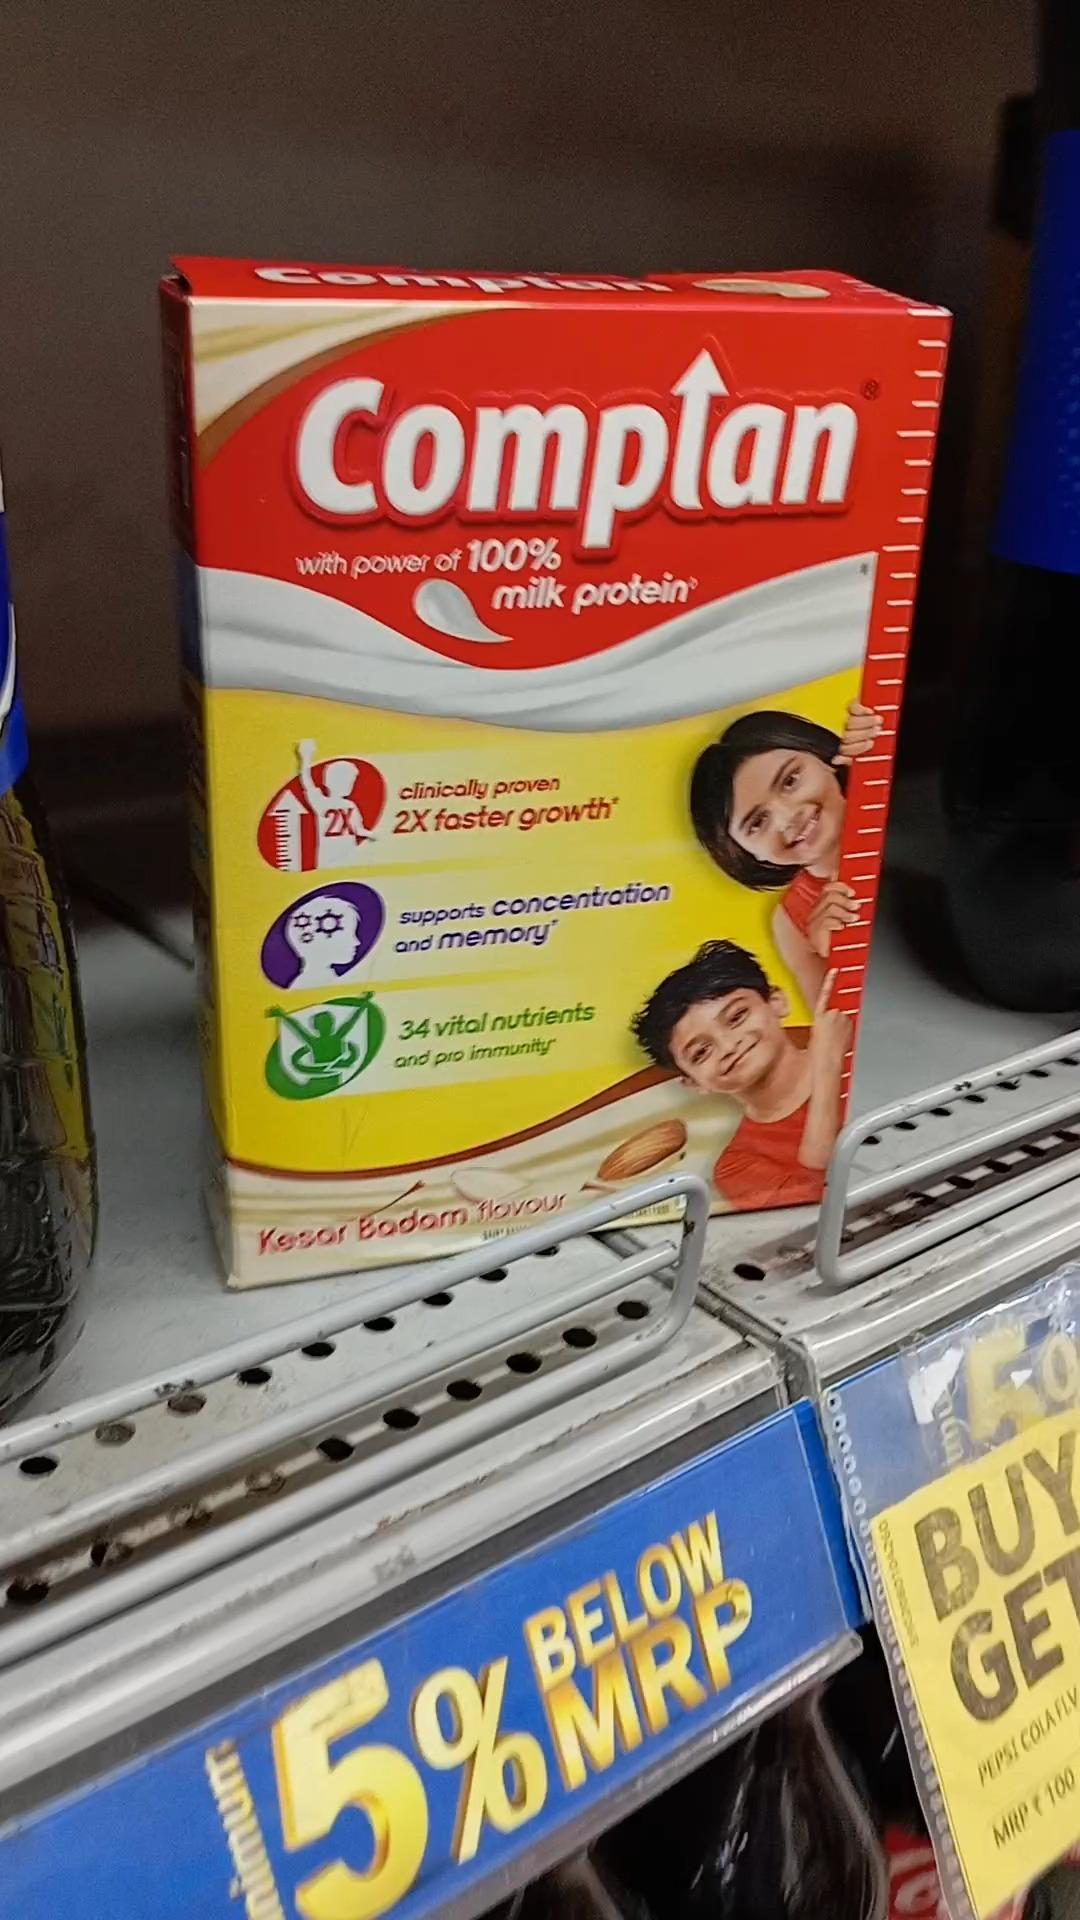COMPLAN_CHOCOLATE_200_GMS_JAR: (206, 305, 853, 1232)
